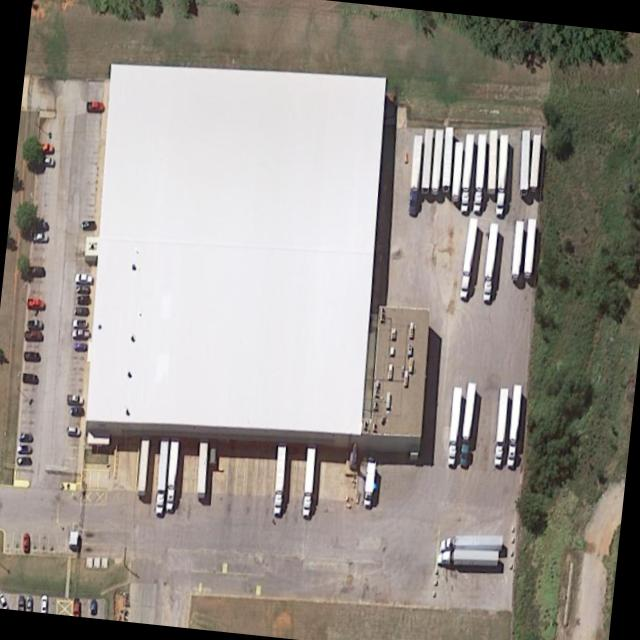large-vehicle: (458, 215, 479, 297), (481, 220, 499, 300), (459, 381, 475, 466), (506, 383, 522, 465), (446, 384, 462, 465), (493, 386, 509, 464), (459, 132, 474, 211), (472, 132, 487, 210), (407, 132, 421, 215), (494, 132, 508, 215), (301, 445, 317, 517), (154, 437, 169, 513), (164, 435, 179, 511), (272, 441, 287, 514), (439, 531, 503, 547), (437, 547, 498, 563), (362, 451, 377, 504)
small-vehicle: (75, 270, 93, 284), (86, 98, 104, 112), (25, 296, 45, 308), (21, 369, 38, 383), (31, 230, 48, 243), (25, 316, 43, 328), (71, 327, 90, 338), (26, 263, 45, 274), (66, 392, 83, 404), (24, 328, 43, 338), (75, 293, 92, 304), (39, 140, 54, 152), (75, 282, 91, 293), (39, 153, 55, 164), (33, 219, 49, 230), (24, 350, 40, 361), (18, 430, 34, 441), (71, 316, 88, 326), (73, 305, 91, 314), (67, 423, 81, 434), (15, 443, 32, 452), (69, 404, 84, 414), (17, 454, 32, 464), (23, 532, 30, 552), (80, 218, 95, 227), (90, 597, 97, 614)
